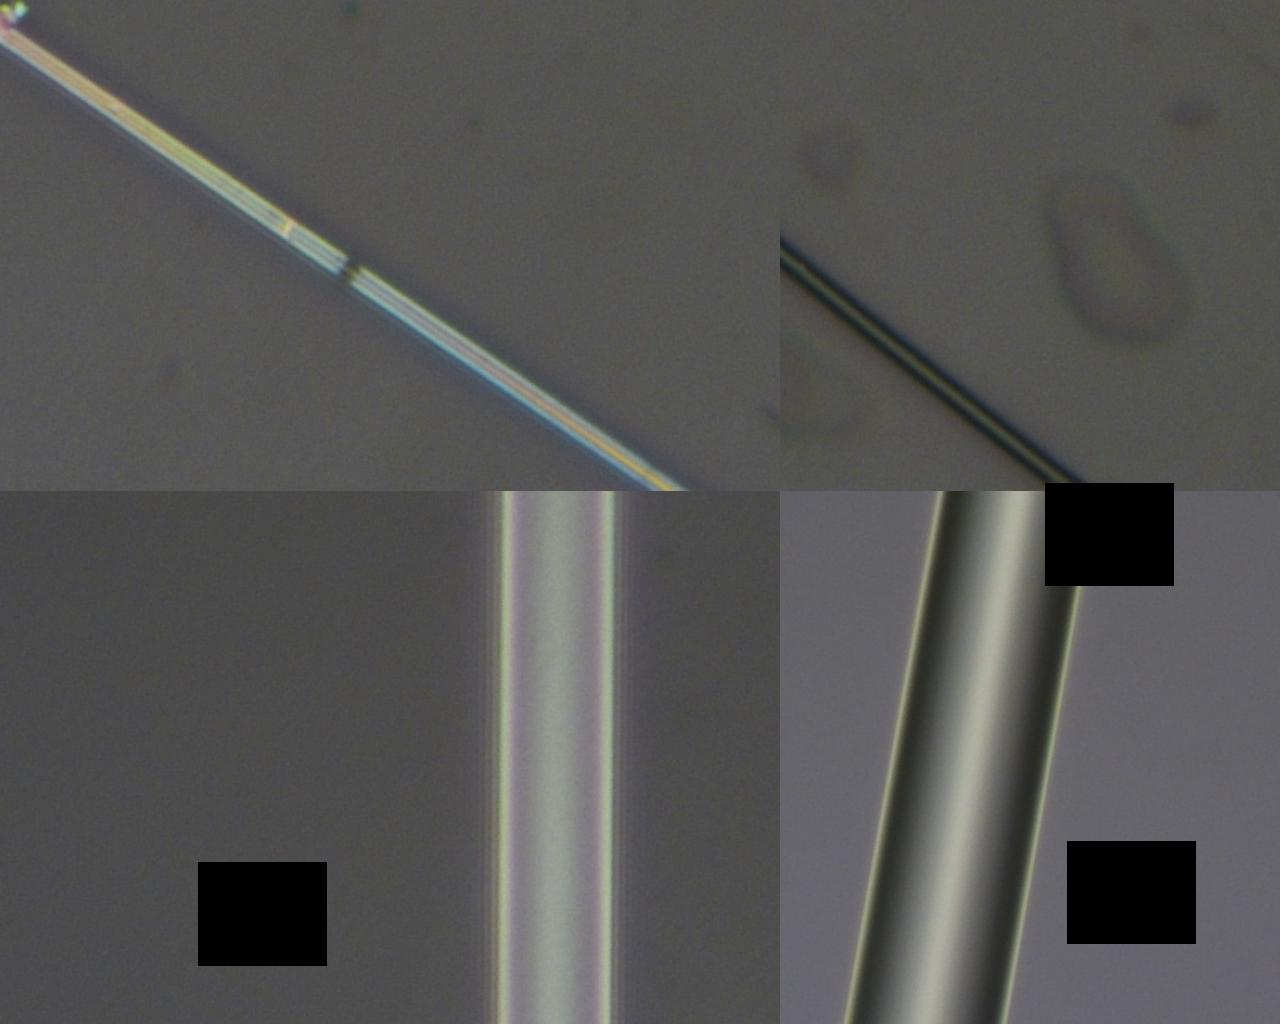fiber: (128, 360, 1152, 592)
